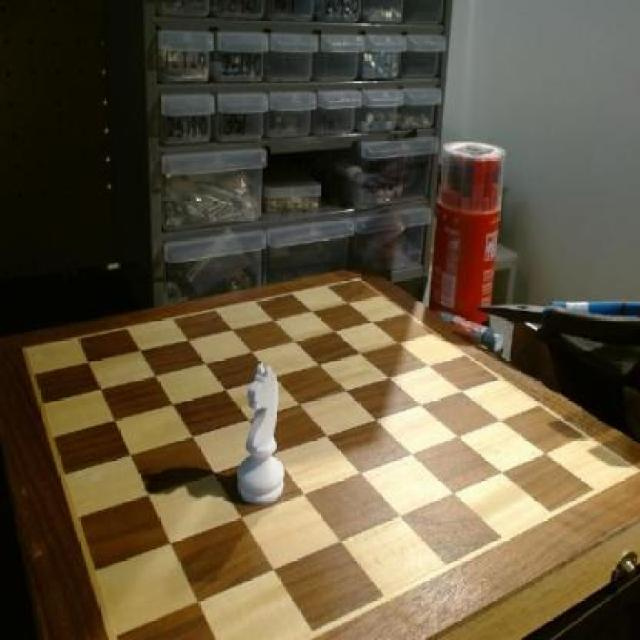white-king: (238, 362, 291, 510)
